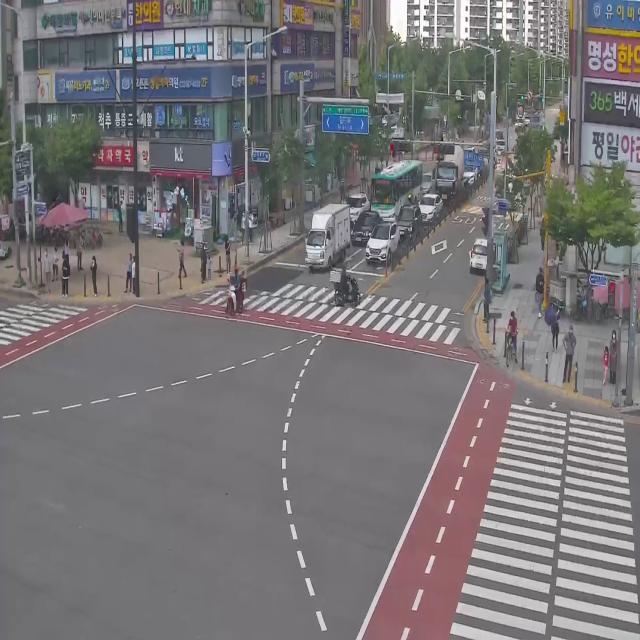Bus: (371, 157, 424, 221)
Car: (366, 221, 401, 266), (354, 204, 378, 245), (396, 200, 415, 242), (421, 191, 443, 226), (468, 238, 488, 274), (347, 191, 371, 217)
Motorcycle: (330, 266, 362, 310), (225, 274, 248, 317)
Truck: (305, 203, 352, 270), (427, 136, 466, 208)
